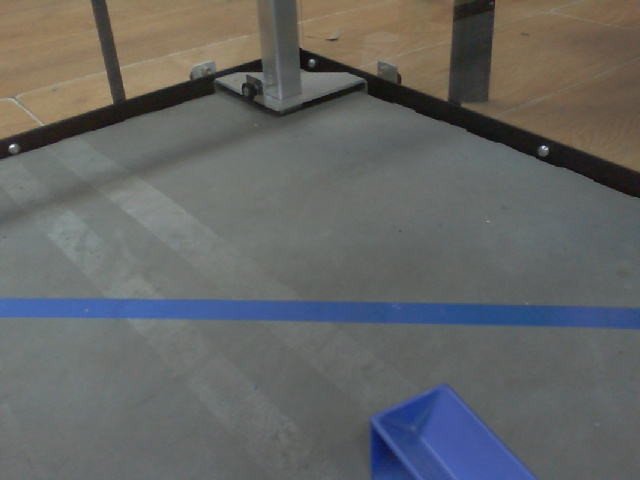BlueSample: (360, 379, 542, 480)
